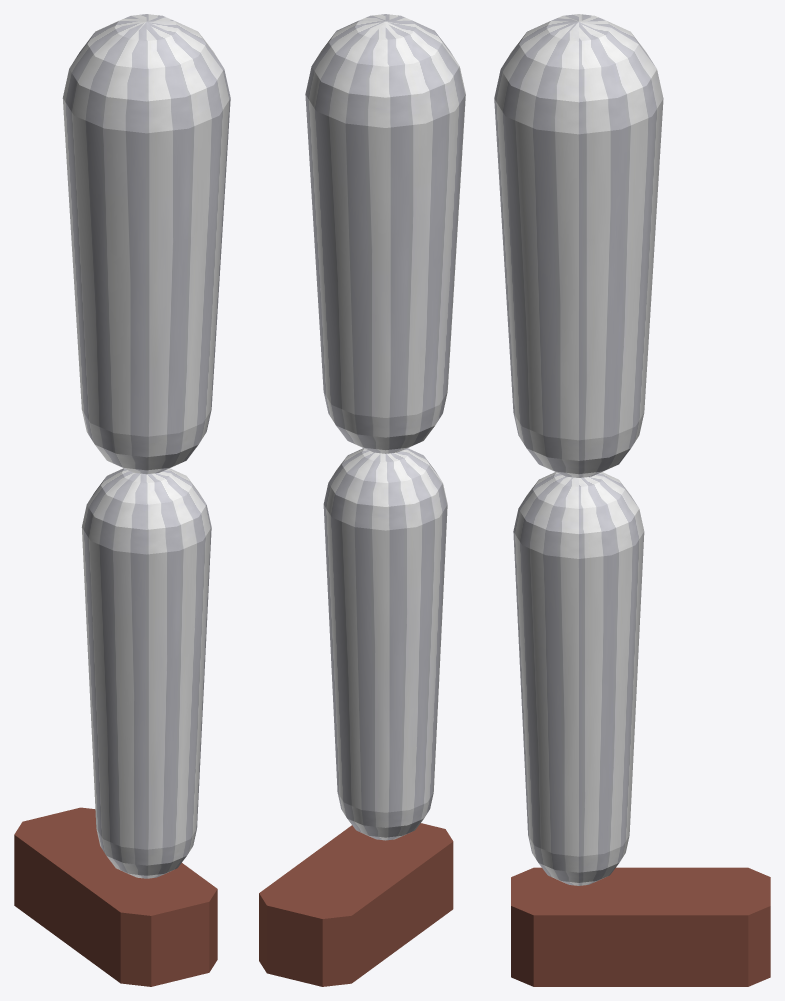
Rendered from char_resident_leg.obj.
3 renders of one model, left to right at view 1: azimuth 30°, elevation 25°; view 2: azimuth 150°, elevation 25°; view 3: azimuth 270°, elevation 25°, orthographic. The views are drawn at different scales.
Parts seen in each view (by area): view 1: char_resident_leg; view 2: char_resident_leg; view 3: char_resident_leg.
Boxes of the visible parts, x1=… form: char_resident_leg: x1=14, y1=14, x2=230, y2=986; char_resident_leg: x1=259, y1=14, x2=465, y2=986; char_resident_leg: x1=494, y1=14, x2=770, y2=986.
Bounding box in the file's own units: 0.15 × 0.92 × 0.245.
2 materials, 1 textured.
